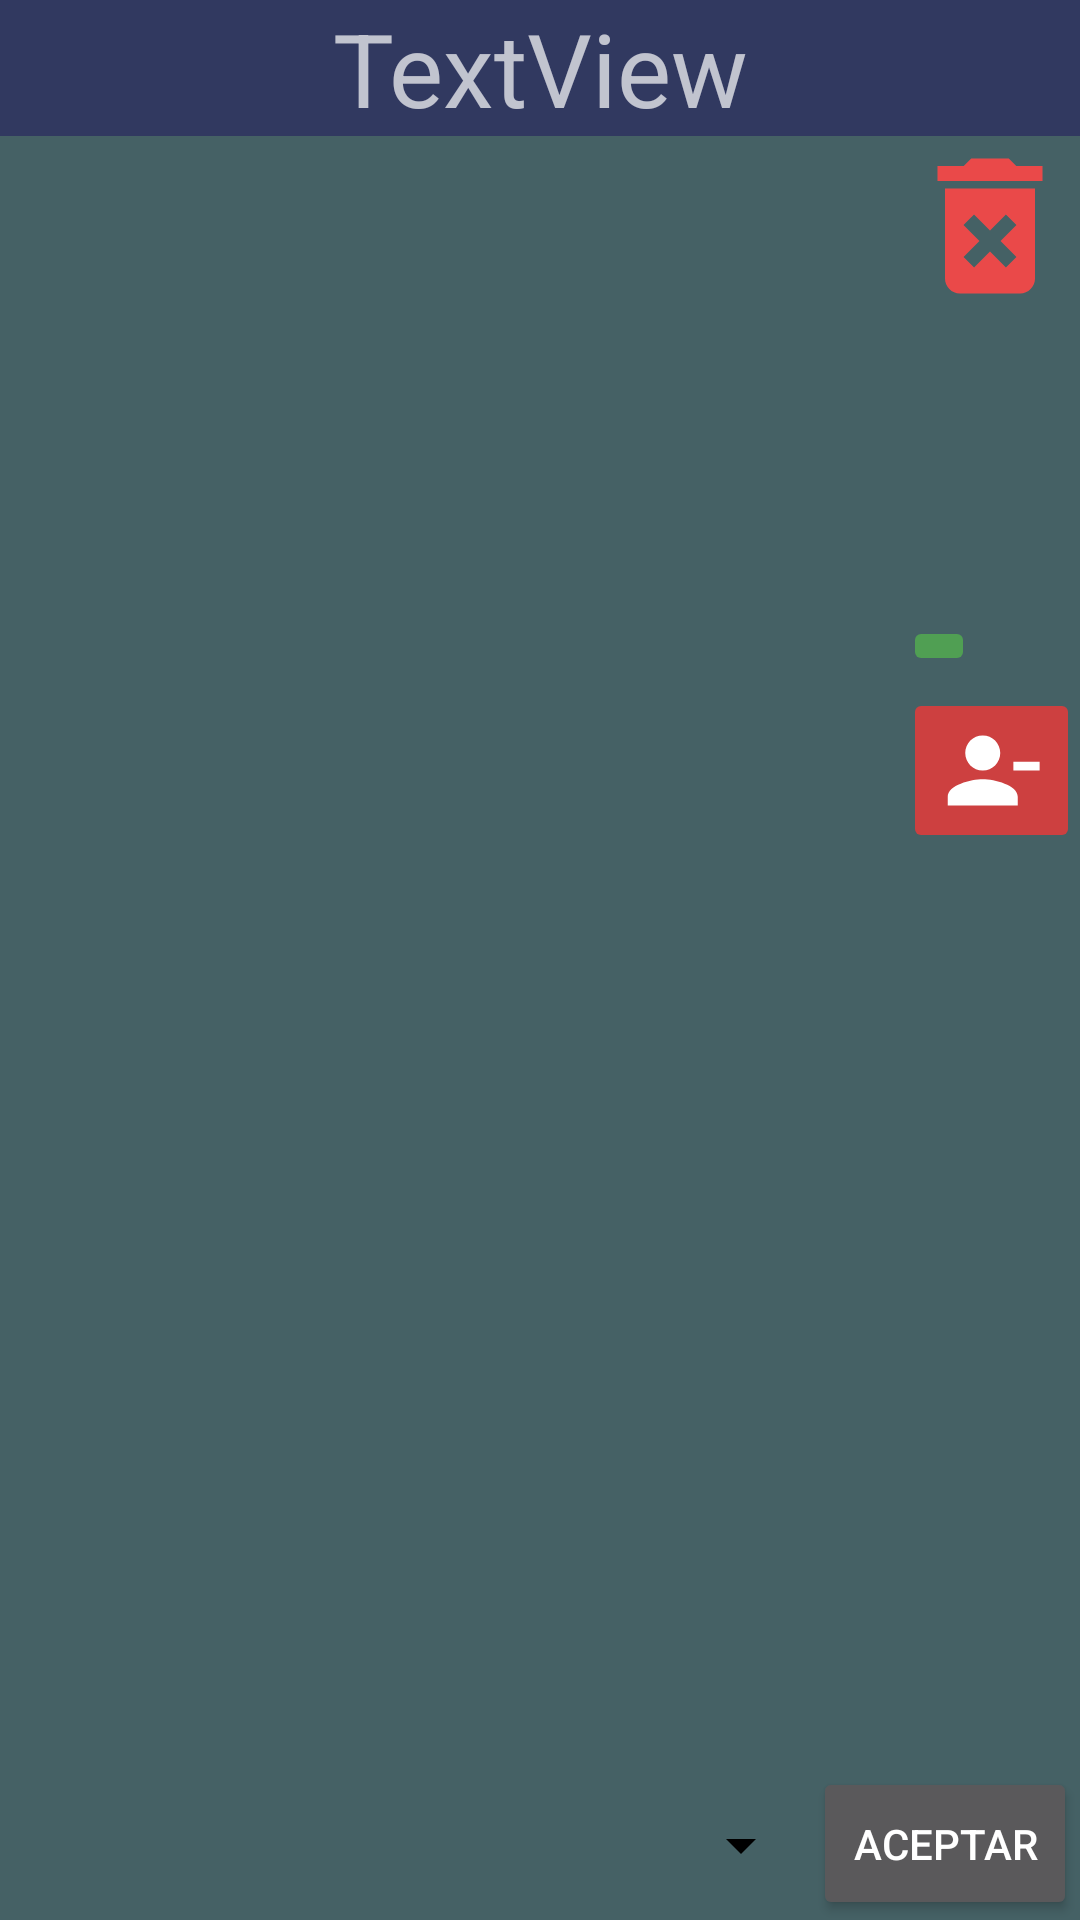

Screen size 1080px x 1920px. Icon name, then its center in pixels as [x,y]:
borrargrupo: [990,226]
person remove: [991,770]
